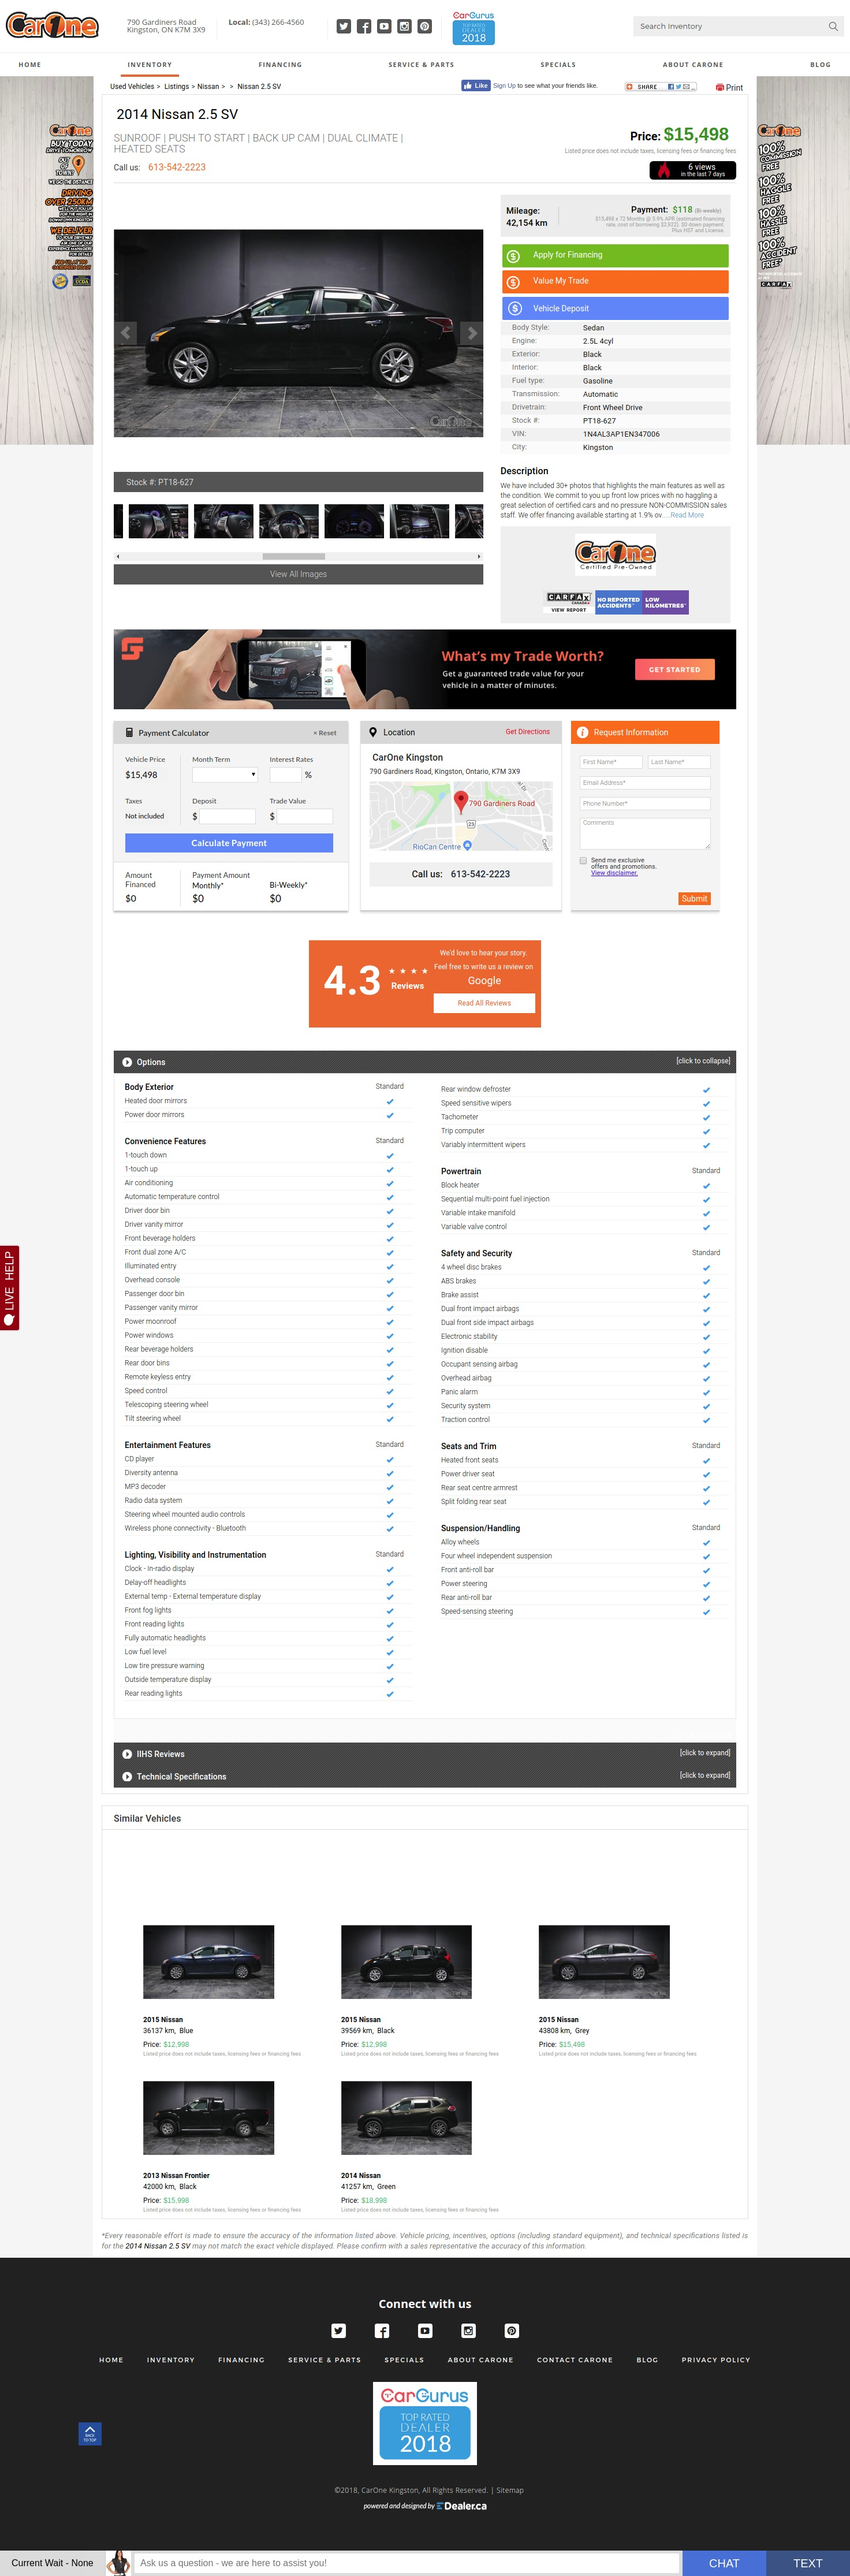car: (459, 322, 486, 347)
